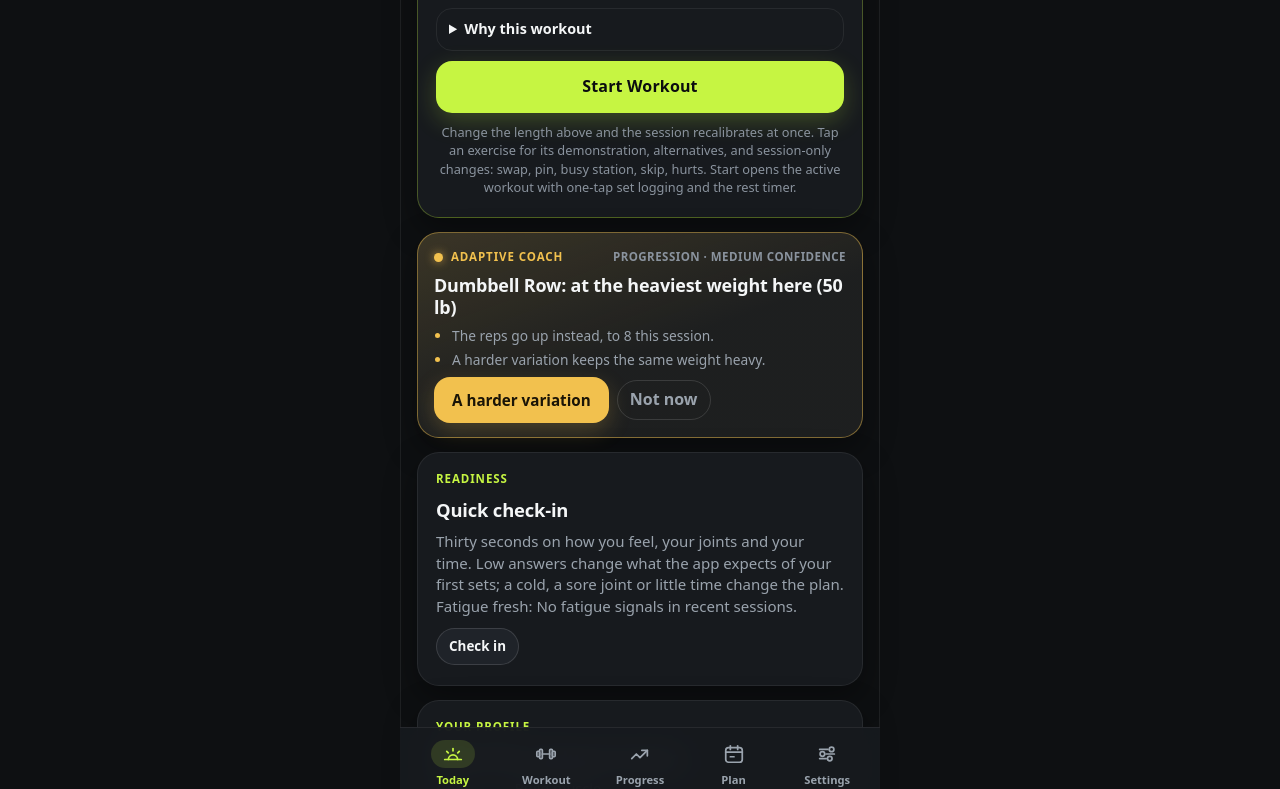
Scenario: "A harder variation" on Today › opens the lift’s sheet with the harder variation first
(page scrolled)
Check: the heading "Dumbbell Row: at the heaviest weight here (50 lb)" is shown, box x1=434 y1=274 x2=846 y2=318
Click the button with test id "coach-action".
click(521, 400)  # box x1=434 y1=377 x2=609 y2=423
(page scrolled)
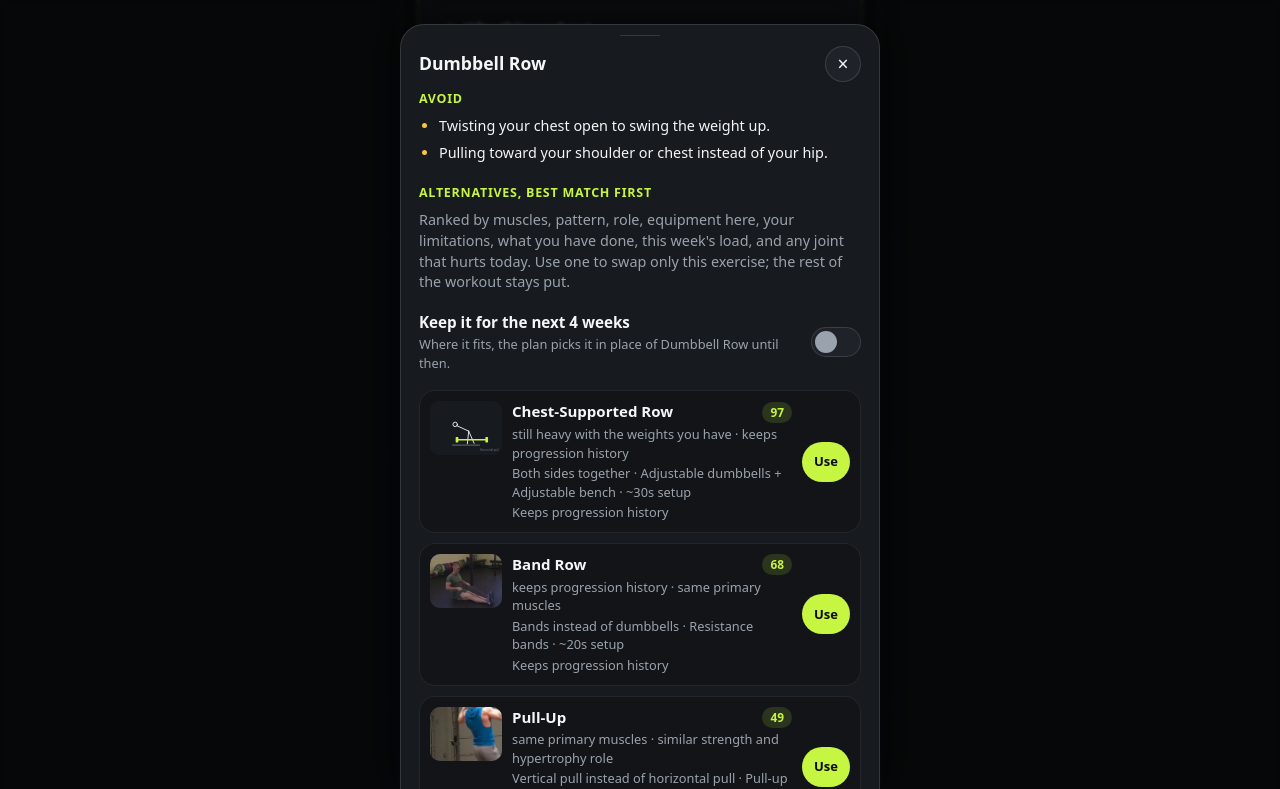
Check: the list item that starts with "Chest-Supported Row" is shown, box x1=512 y1=402 x2=673 y2=422
Check: the text with test id "alternative-reasons" shows "still heavy with the weights you have", box x1=512 y1=425 x2=777 y2=462
